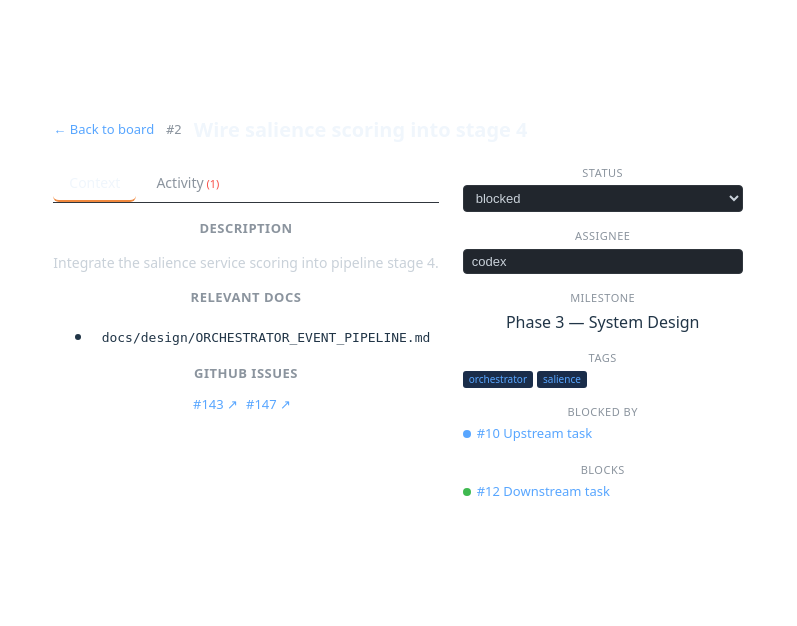
Test: Task Detail View › switches between Context and Activity tabs
Expected: the heading "Description" is shown, [199, 218, 293, 236]
Click the button "Activity" at (188, 183), box [140, 164, 235, 202]
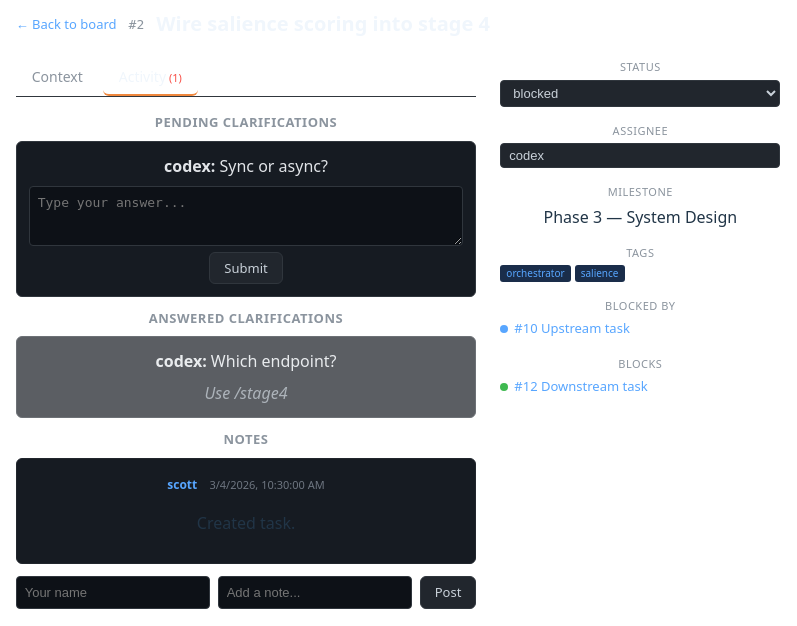
Expected: the heading "Notes" is shown, [224, 430, 268, 448]
Expected: the heading "Description" is gone
